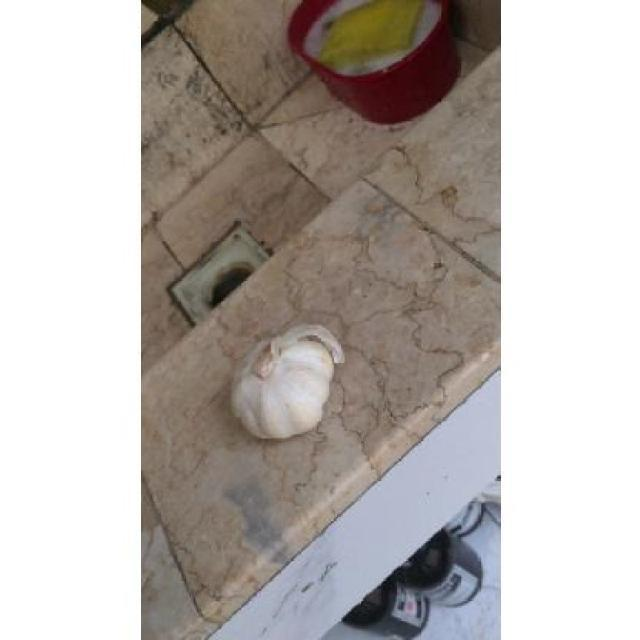garlic: (231, 325, 345, 438)
